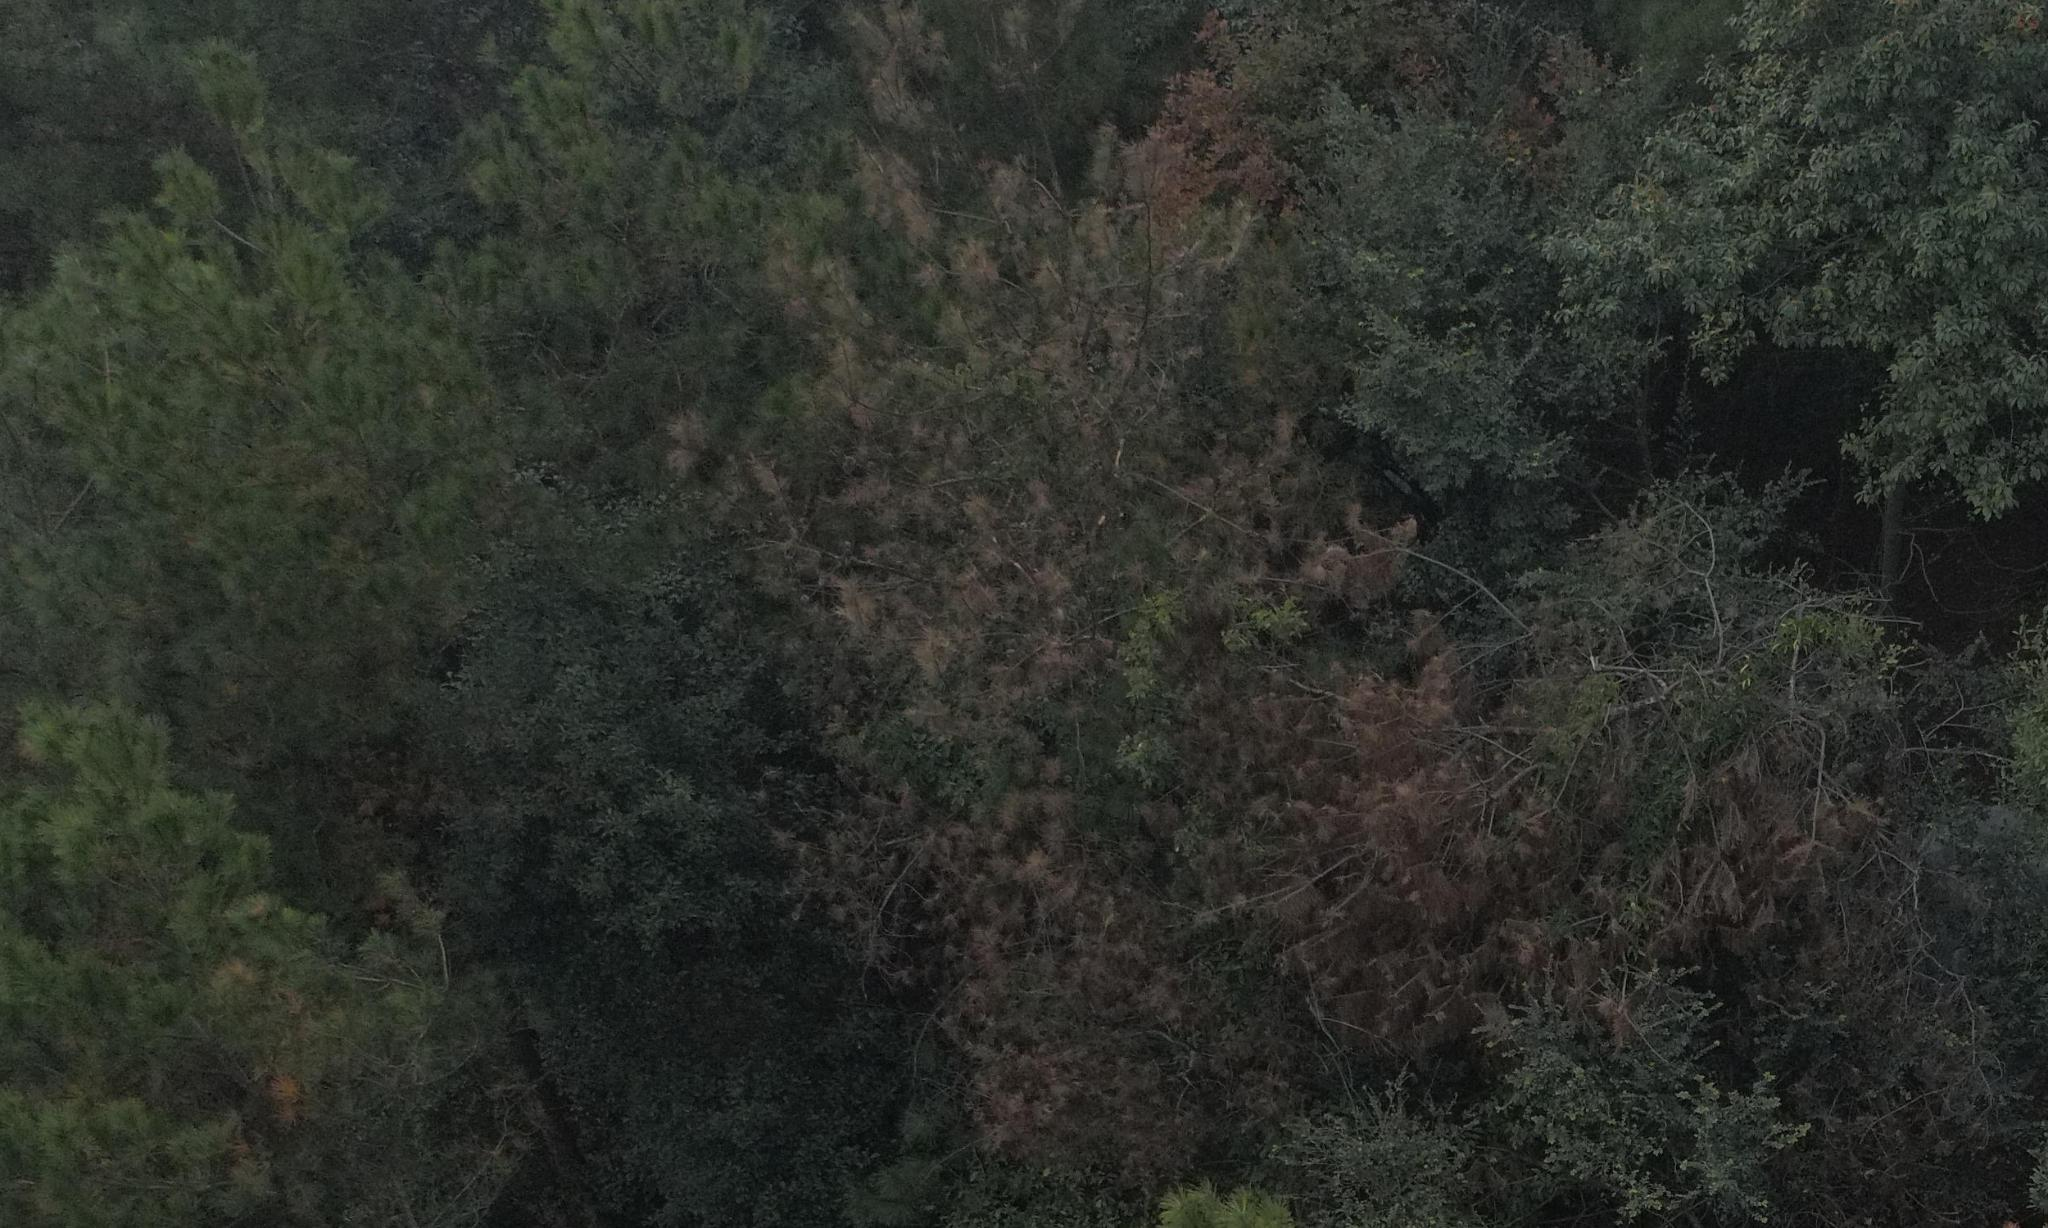heavy: (1228, 548, 1848, 1050), (735, 132, 1152, 710), (808, 778, 1164, 1124)
